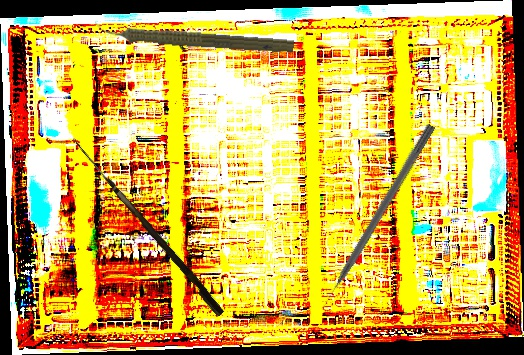Handpiece: (93, 18, 295, 56)
Hook Surgical: (64, 137, 228, 318)
Pusher: (315, 122, 437, 312)
